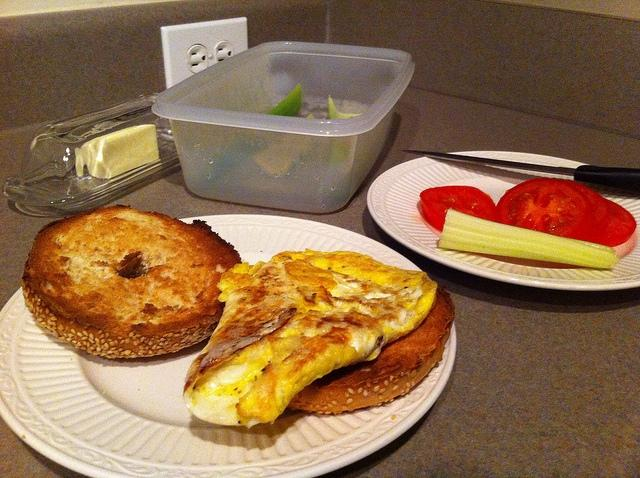celery: (438, 209, 616, 268), (316, 94, 364, 203), (254, 113, 326, 175), (267, 82, 302, 116)
tomato: (495, 178, 595, 240), (419, 186, 496, 231), (562, 181, 609, 243)
